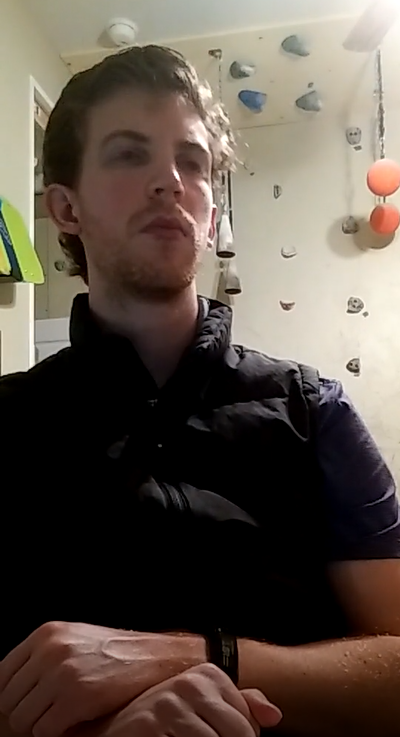Half Asleep: (97, 126, 215, 185)
